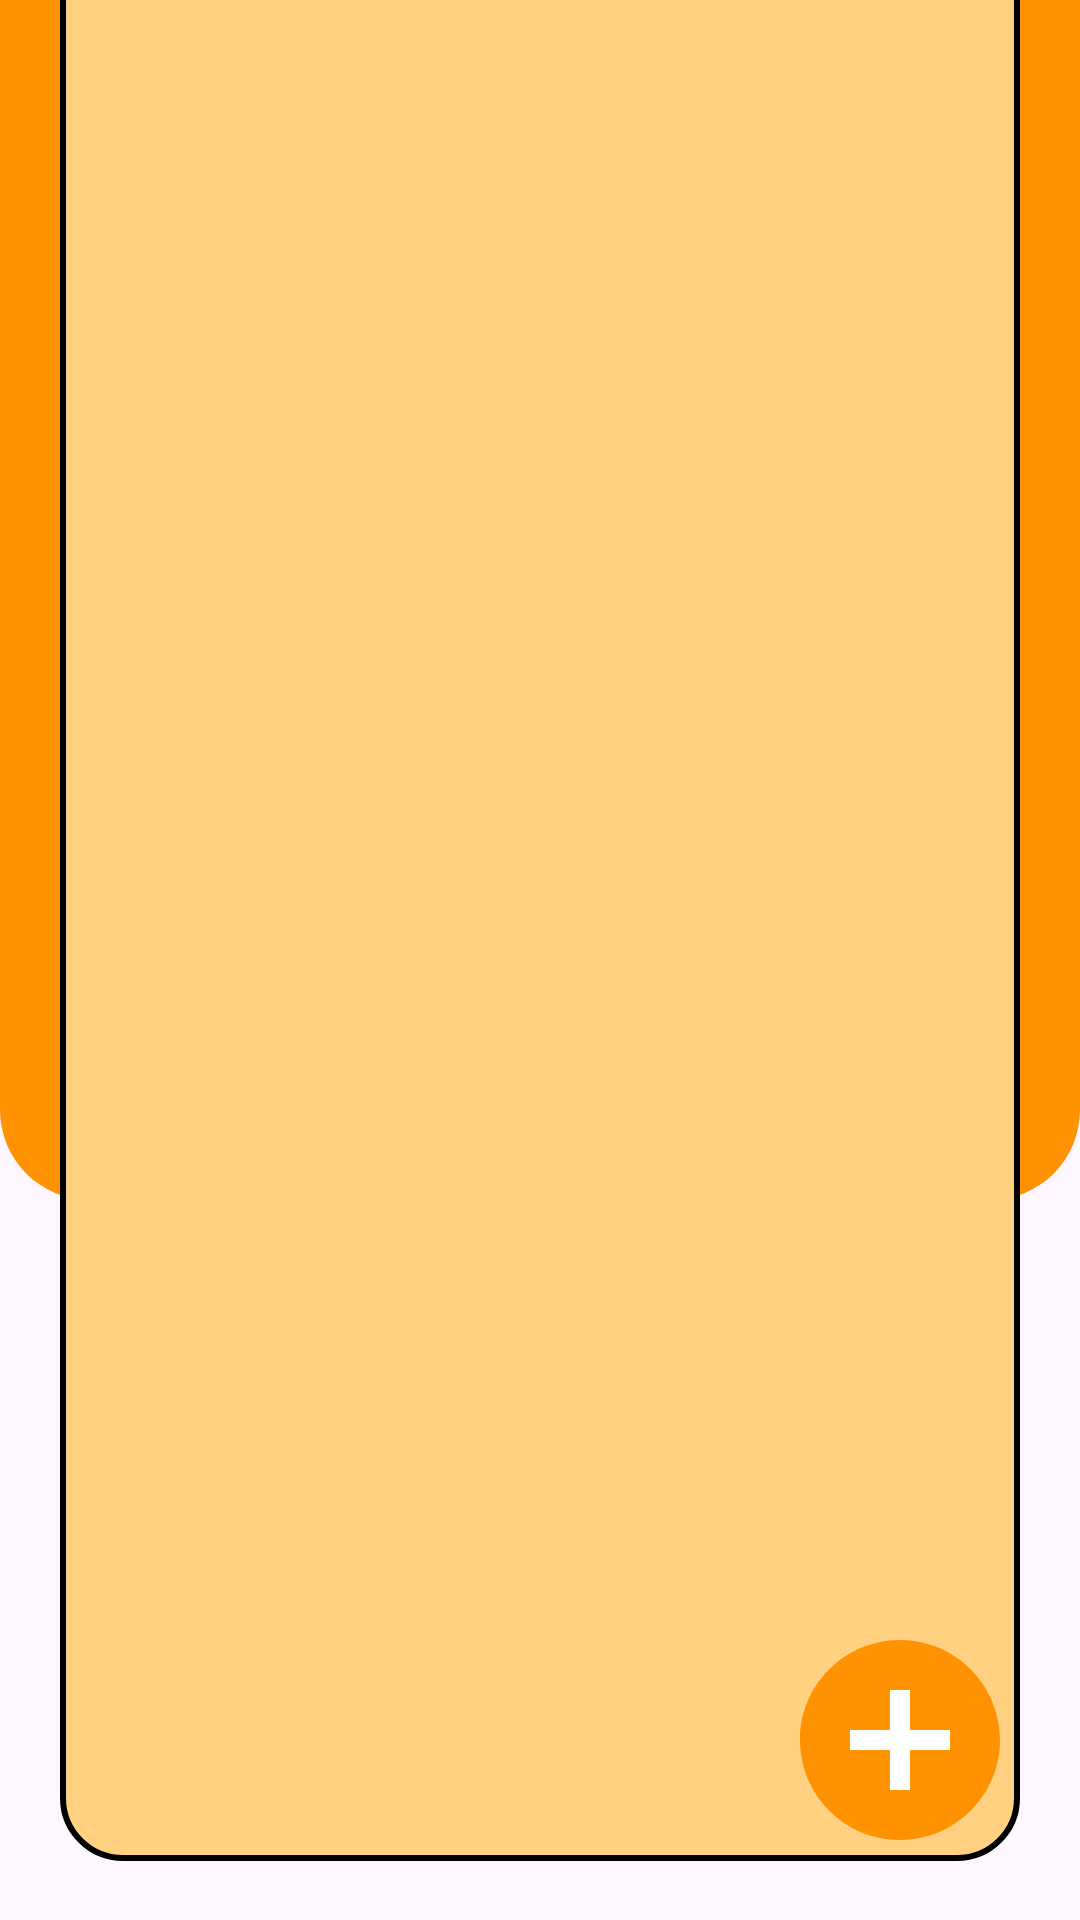

Where to tap for icons on this 1080w x 1920h app screen, as (x=x, y=y):
add circle: (x=900, y=1740)
